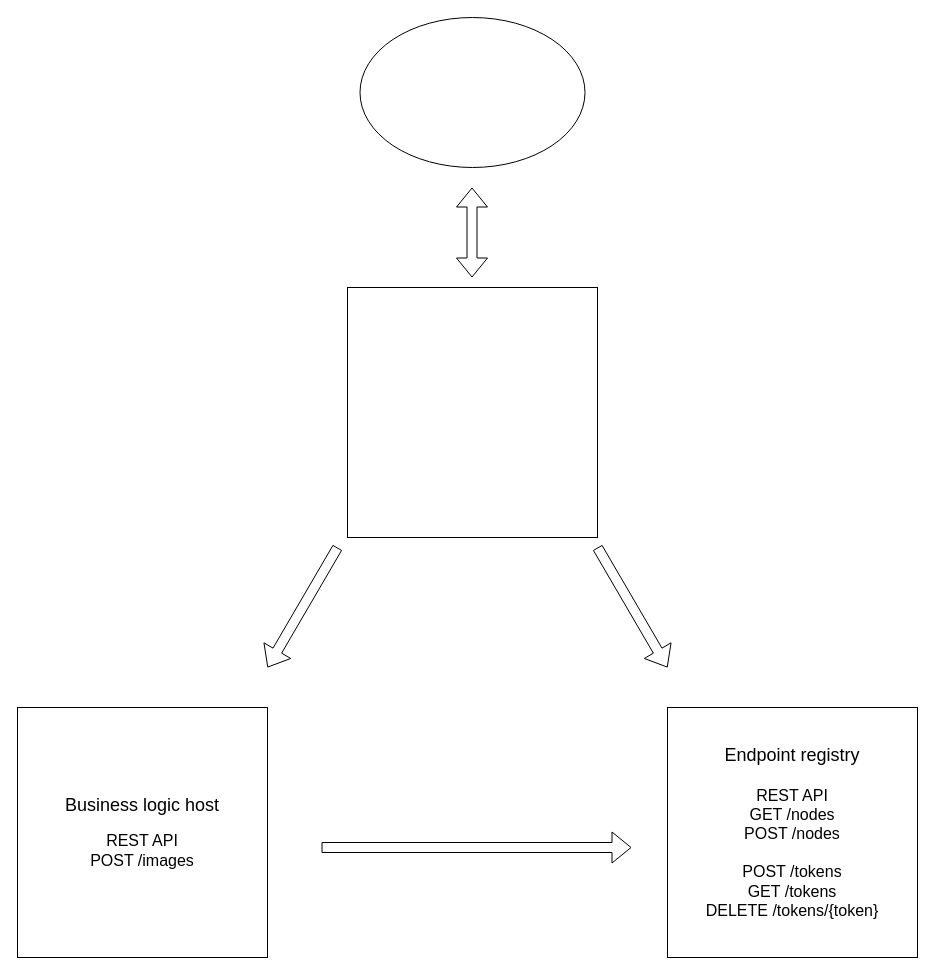
Some shapes in this 935 by 975 pixel diagram are drawn without their labels. The centre of each missing label's shape, as x and y in pixels:
GUI host: point 472,412
User: point 472,92
